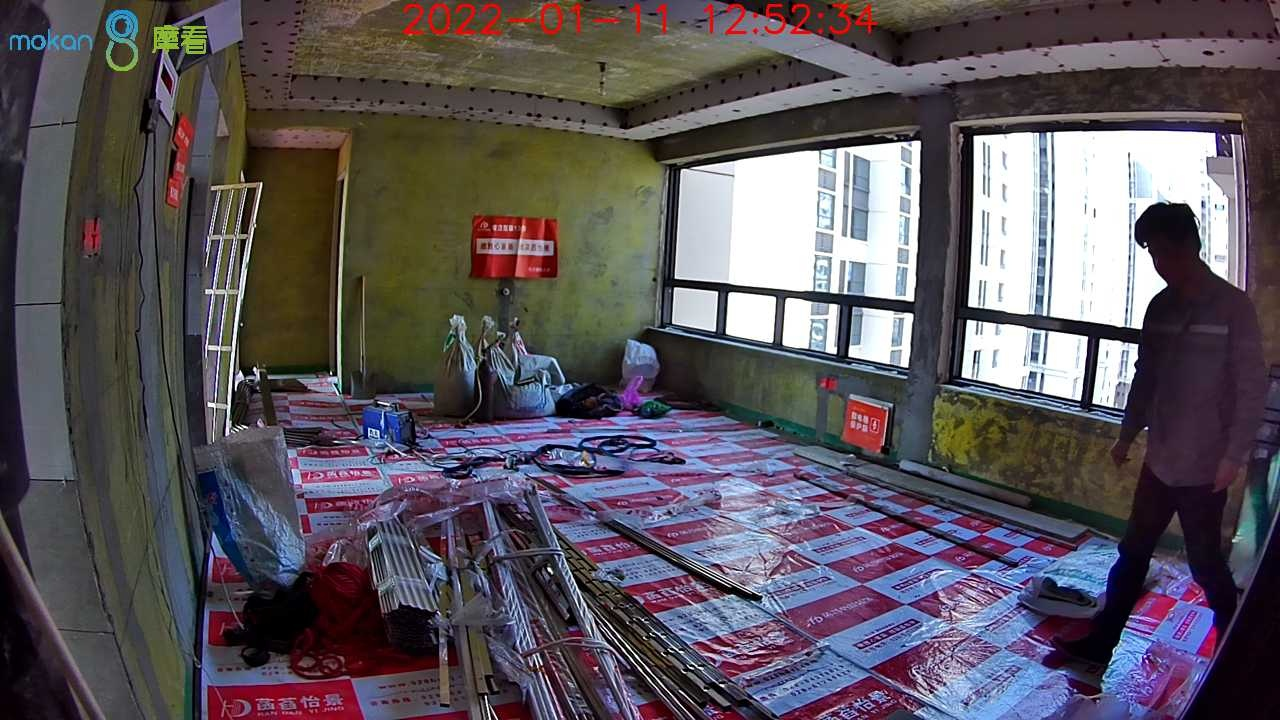people: (1061, 200, 1262, 672)
window: (964, 121, 1251, 423)
